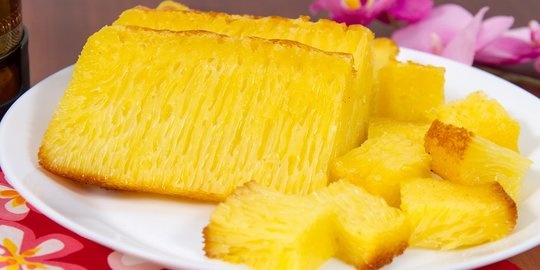bika_ambon: (43, 2, 529, 245), (43, 23, 354, 217)
